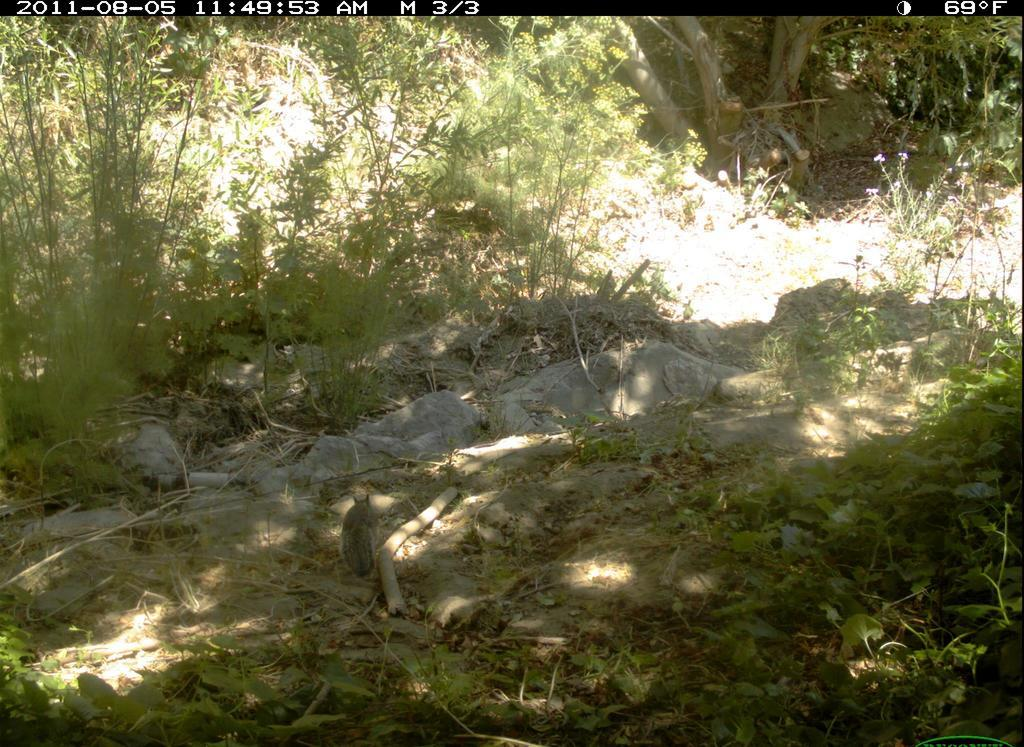squirrel: (338, 481, 396, 593)
